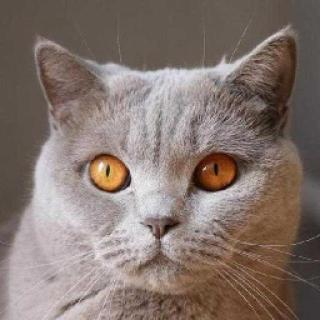cat: (28, 26, 305, 300)
nose: (132, 204, 185, 242)
